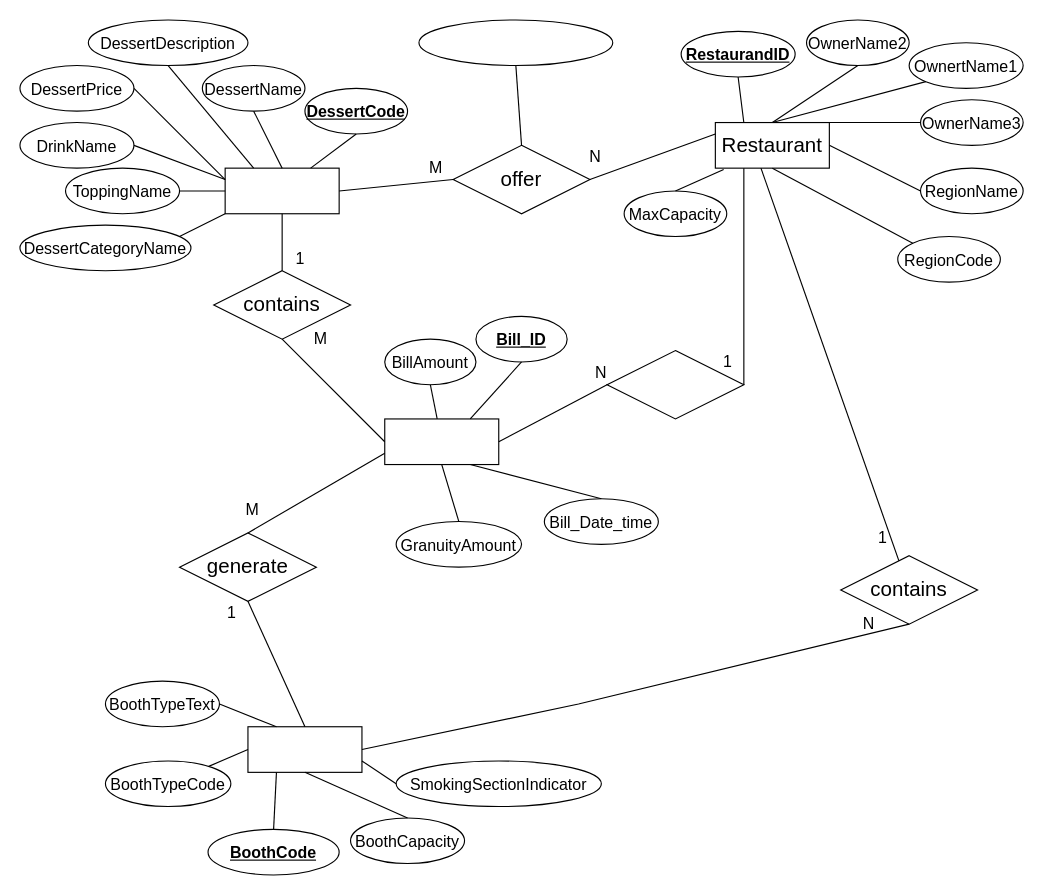
This 1043x895 diagram has some shape labels left out. Each missing label, with the centre of its shape:
"Bill" belongs at pixel 441 441.
"Booth" belongs at pixel 304 749.
"Dessert" belongs at pixel 281 190.
"DessertOfferedDateRange" belongs at pixel 515 42.
"process" belongs at pixel 675 384.
